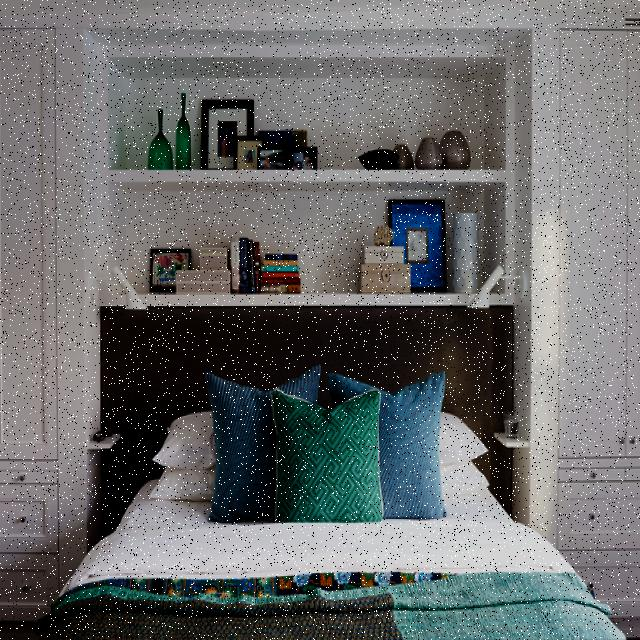bed: (57, 371, 623, 640)
